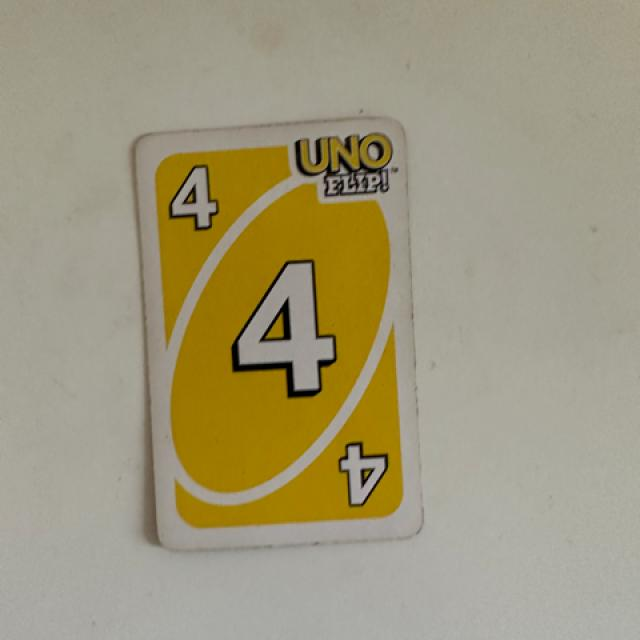lyellow-4: (148, 146, 237, 246)
